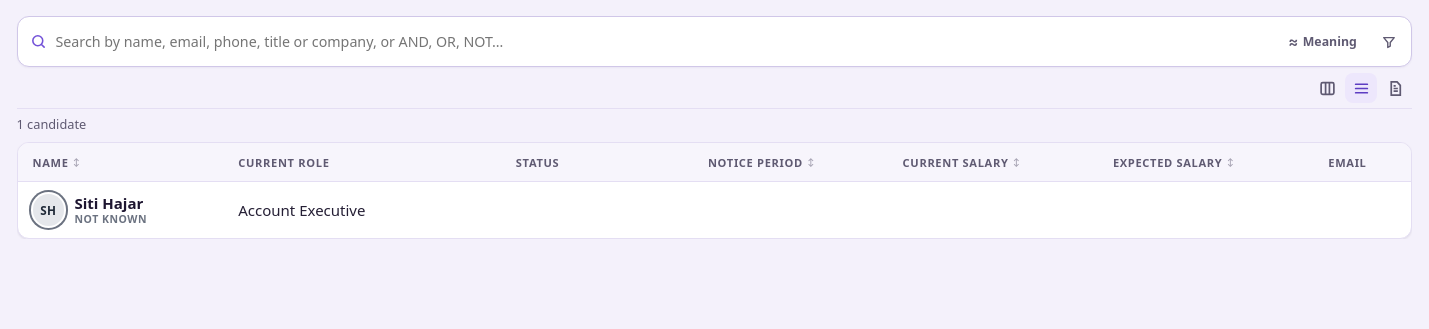
Test case: searching candidates by meaning › sends the words to be read, says so meanwhile, then ranks with why
The image size is (1429, 329).
Expected: the link "Siti Hajar" is shown, [74,193,143,213]
Click the button "≈ Meaning".
click(1322, 42)  # box [1278,27,1366,56]
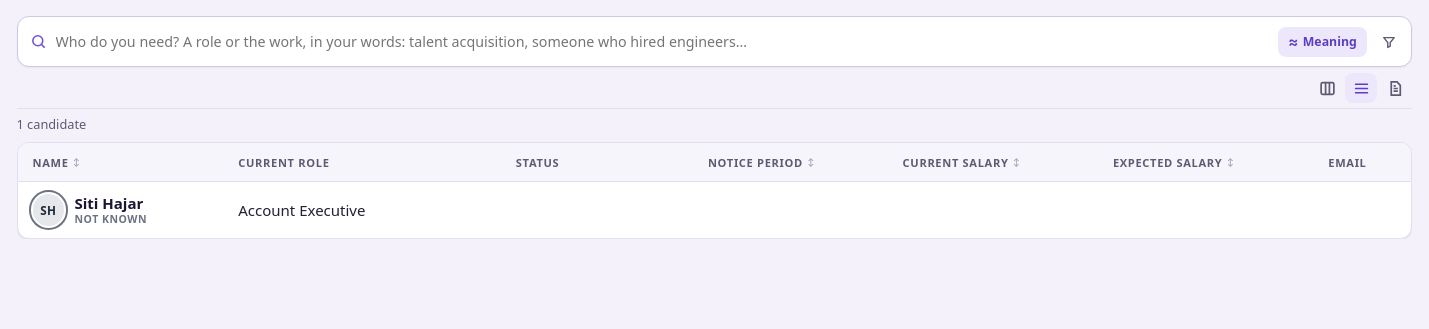
Replace the text in the field named "Search candidates by meaning" with "accounts executive" at (663, 42), box [52,22,1273,62]
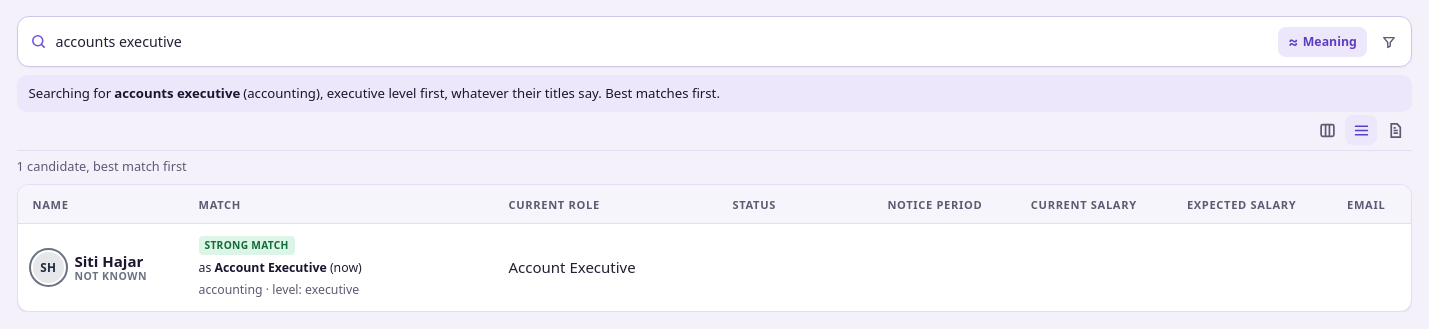
Result: the text "whatever their titles say" shows "Searching for accounts executive (accounting), executive level first, whatever their titles say. Best matches first." at [16,75,1412,112]
Result: the column heading "Match" is shown at [184,185,494,224]
Result: the element with class "why-line" reads "Strong match as Account Executive (now) accounting · level: executive" at [198,236,362,298]
